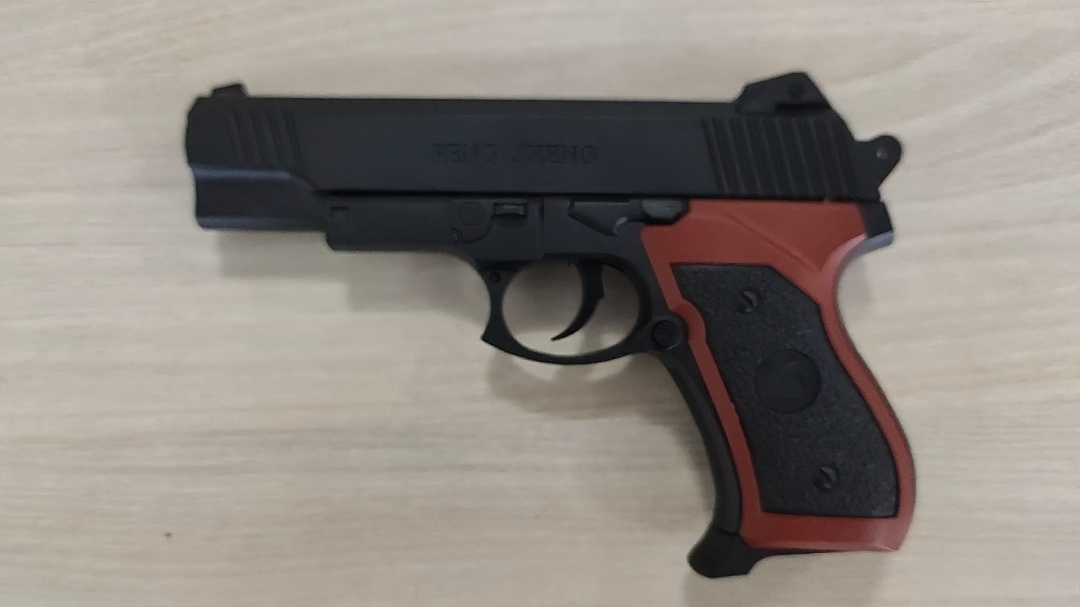gun: (181, 68, 917, 577)
